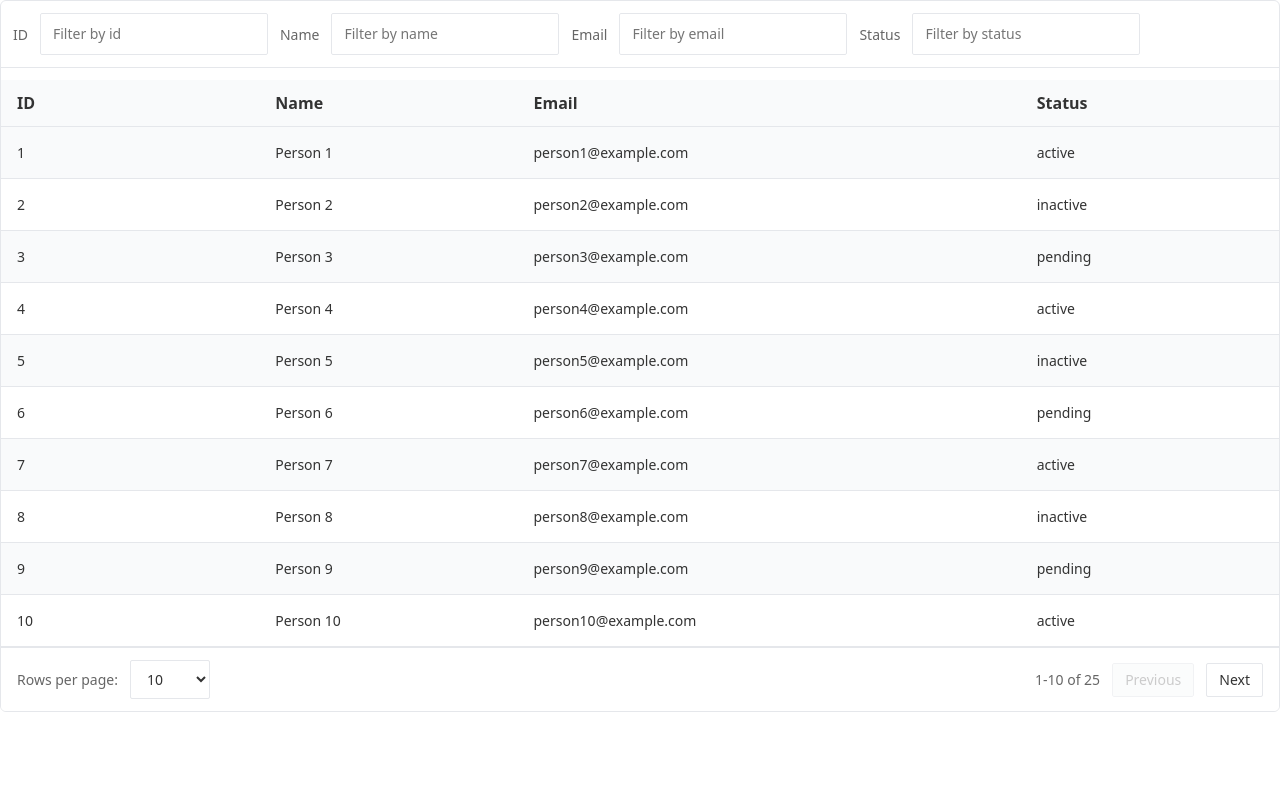
Test: DataGrid Component › works with pagination controls
Check: the text "1-10 of 25" is shown, box [1035, 670, 1100, 689]
Click next page button
Click the button "Next" at (1235, 680), box [1206, 662, 1263, 697]
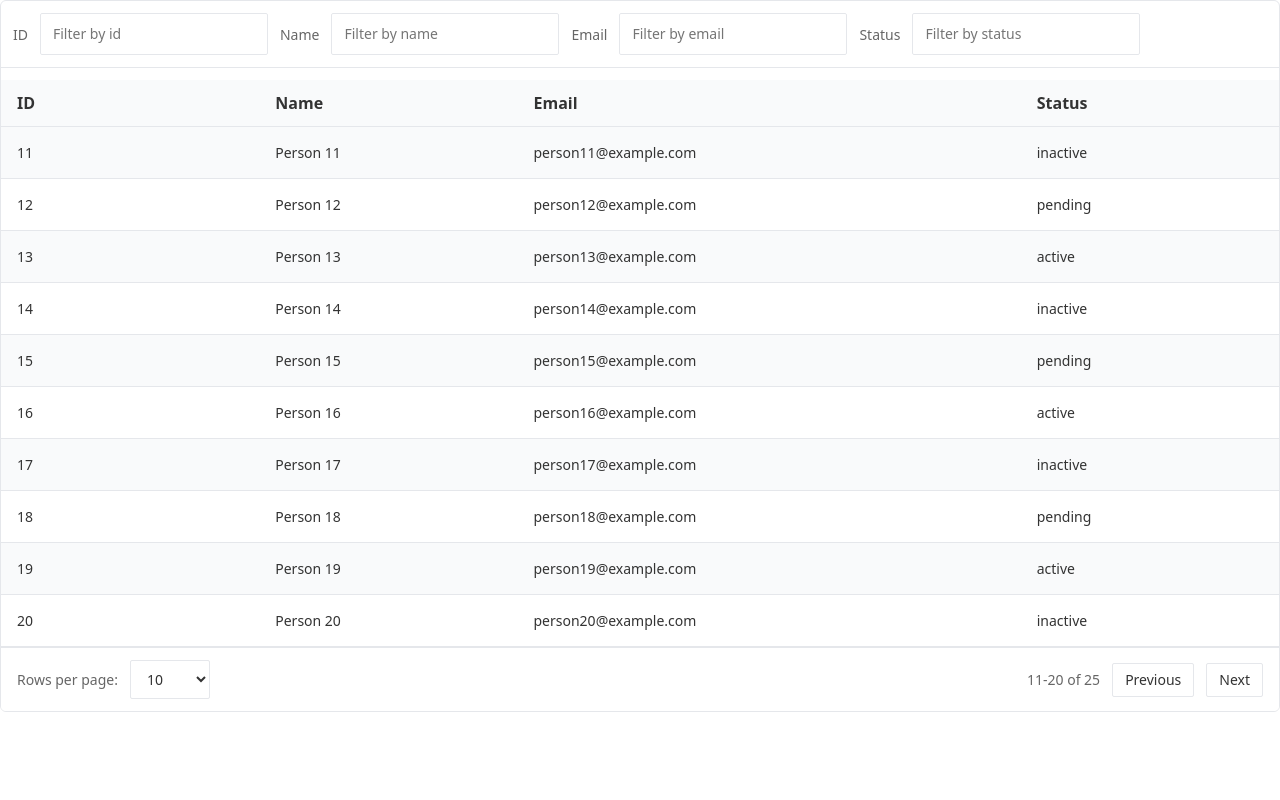
Check: the text "11-20 of 25" is shown, box [1027, 670, 1100, 689]
Check: the text "Person 11" is shown, box [259, 127, 518, 179]
